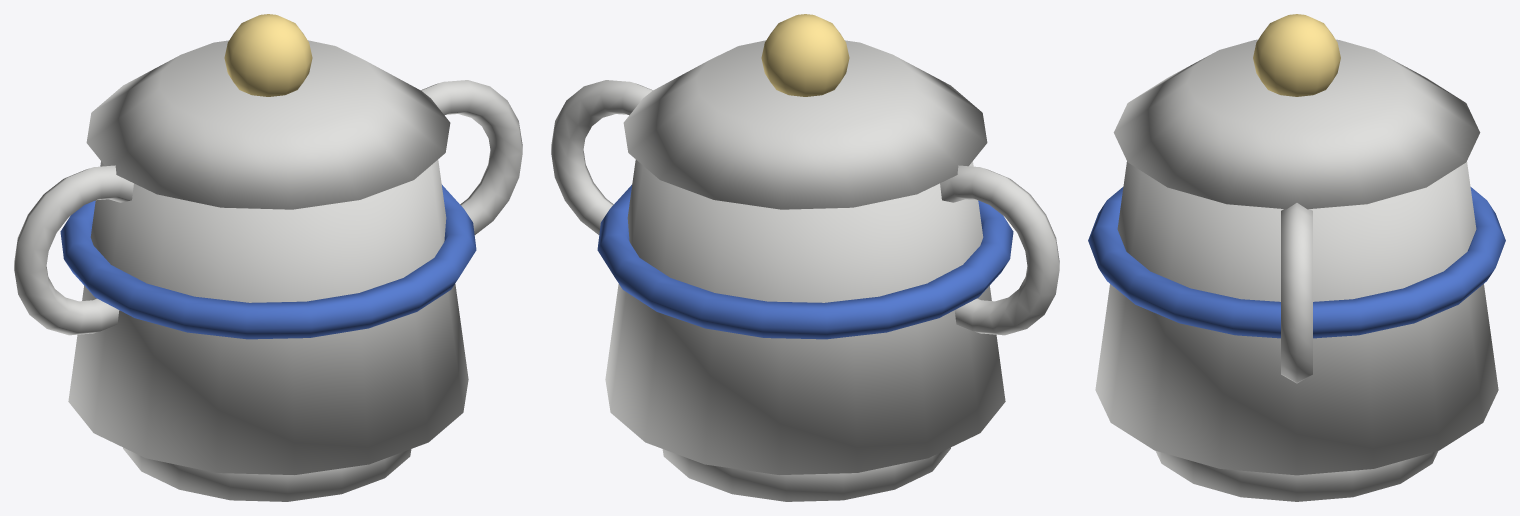
The model's file is china_sugar.glb.
The picture shows the model from 3 angles, left to right: view 1: azimuth 30°, elevation 25°; view 2: azimuth 150°, elevation 25°; view 3: azimuth 270°, elevation 25°; orthographic projection.
Parts seen in each view (by area): view 1: china_sugar; view 2: china_sugar; view 3: china_sugar.
Part boxes in pixels (left/top/right/bottom): china_sugar: left=14, top=14, right=522, bottom=501; china_sugar: left=551, top=14, right=1059, bottom=501; china_sugar: left=1088, top=14, right=1505, bottom=501.
Bounding box in the file's own units: 0.16 × 0.127 × 0.114.
